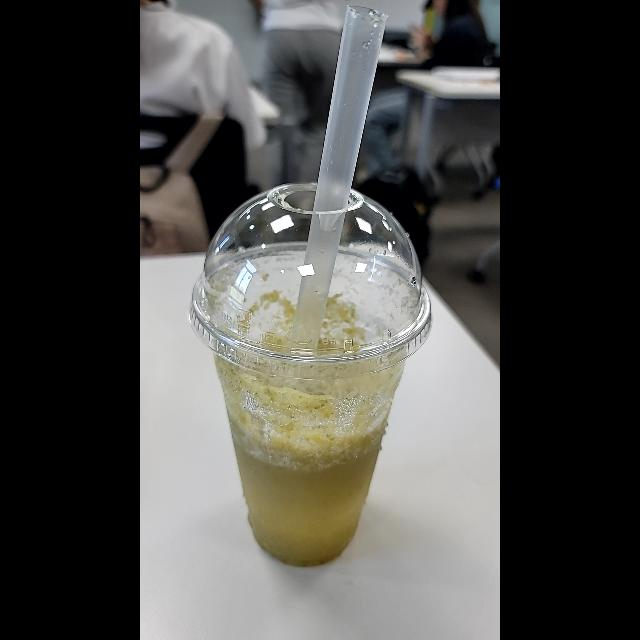plastic_cup: (188, 180, 438, 570)
plastic_cup_lid: (188, 182, 442, 386)
straw: (287, 1, 393, 342)
